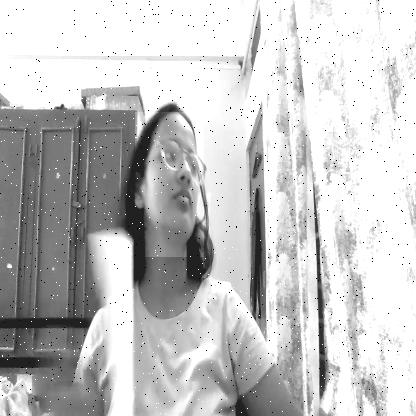Distracted: (135, 112, 204, 257)
